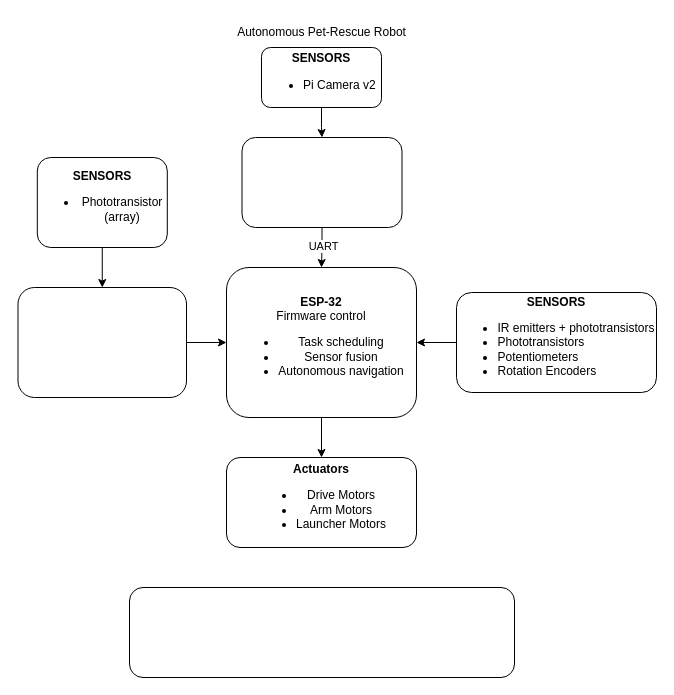
Image size: 674x695. Some labels were removed from this diagram. The centre of each missing label's shape, as x and y in pixels:
"Electrical Hardware Signal Processing, Custom PBCs, Power Systems" goes at point (321, 632).
"ESP-32 Signal processing 10 kHz Signal isolation Fast Fourier-Transform (FFT)" goes at point (101, 342).
"Raspberry Pi 4 Machine Learning & Vision YOLOv5, Python" goes at point (321, 182).
